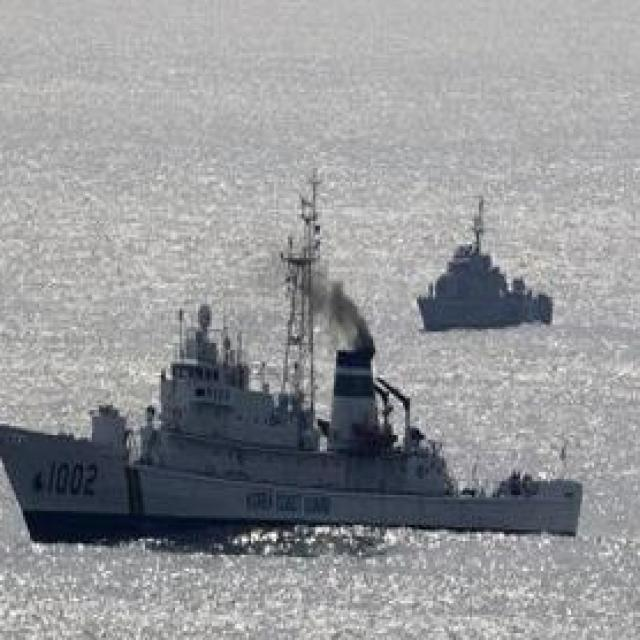navalvessels: (0, 283, 585, 541), (418, 229, 559, 325)
